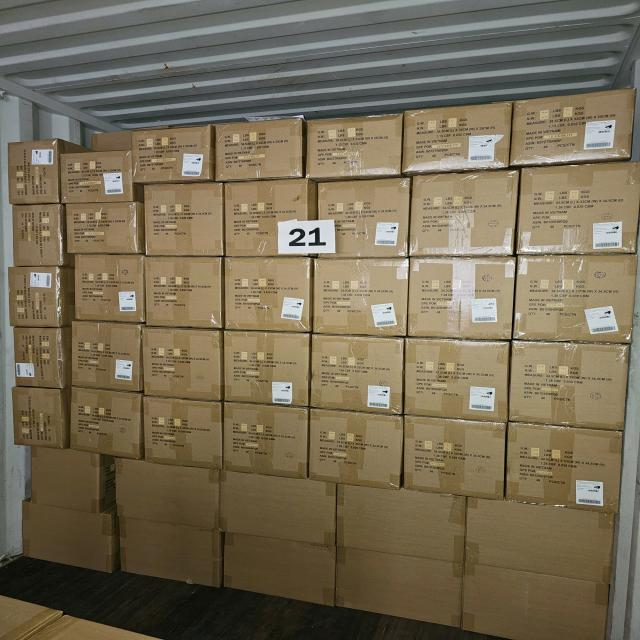Carton: (466, 499, 619, 586), (466, 557, 612, 636), (518, 253, 638, 344), (511, 342, 631, 433), (520, 160, 638, 252), (508, 424, 627, 513), (339, 546, 466, 628), (339, 489, 469, 565), (514, 90, 636, 169), (403, 335, 510, 421), (222, 470, 342, 546), (408, 172, 516, 256), (405, 258, 512, 341), (402, 418, 506, 501), (223, 532, 336, 608), (110, 453, 220, 526), (314, 256, 410, 337), (310, 406, 406, 487), (401, 104, 510, 175), (114, 519, 221, 591), (311, 332, 406, 413), (316, 180, 409, 259), (23, 503, 117, 577), (223, 330, 312, 408), (225, 180, 313, 258), (226, 256, 314, 332), (223, 402, 310, 478), (306, 116, 403, 181), (140, 328, 222, 403), (143, 183, 226, 257), (142, 397, 225, 471), (144, 256, 223, 330), (216, 118, 307, 182), (68, 320, 142, 393), (68, 387, 142, 459), (72, 252, 144, 324), (130, 125, 215, 182), (32, 449, 102, 515), (67, 201, 146, 255), (58, 154, 133, 206), (11, 329, 69, 390), (13, 388, 70, 449), (8, 142, 59, 208), (6, 266, 59, 328), (10, 202, 60, 264)
